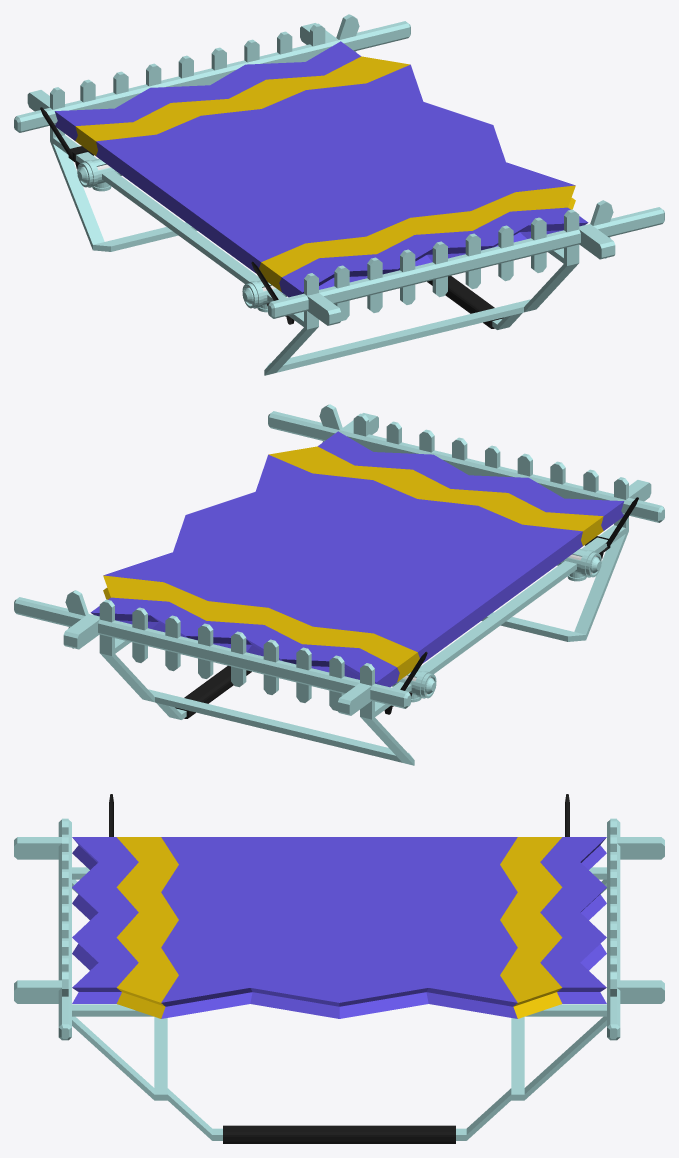
Rendered from Chroma Electroglide.fbx.
3 views of the same model, one above another, from view 1: azimuth 30°, elevation 25°; view 2: azimuth 150°, elevation 25°; view 3: azimuth 270°, elevation 25° (orthographic). The views are drawn at different scales.
Parts seen in each view (by area): view 1: Electroglide; view 2: Electroglide; view 3: Electroglide.
Part boxes in pixels (x1,y1,x2,y2): Electroglide: (14,14,664,375); Electroglide: (14,404,664,765); Electroglide: (14,794,664,1143).
Size of the model in its own units: 550 by 235 by 730.
